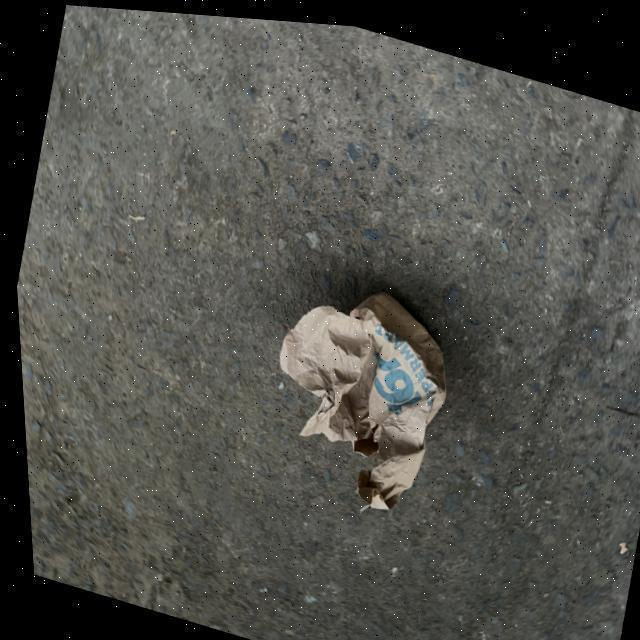Paper_Bag: (246, 262, 473, 532)
